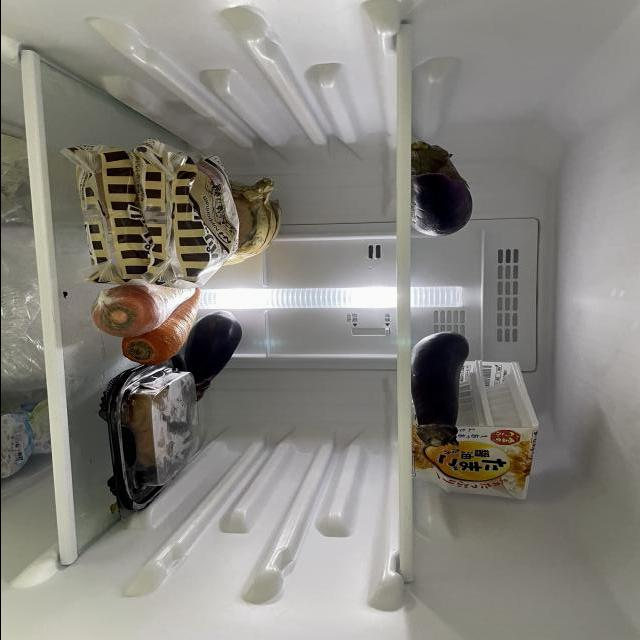carrot: (97, 280, 199, 340), (123, 298, 201, 364)
eggplant: (410, 333, 472, 447), (174, 310, 245, 408), (409, 145, 478, 235)
onion: (214, 178, 285, 267)
